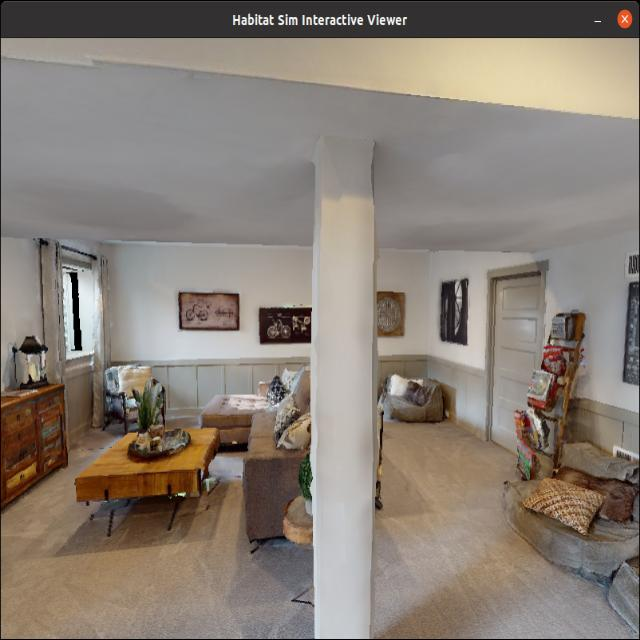door: (481, 259, 551, 472)
table: (72, 410, 224, 542)
